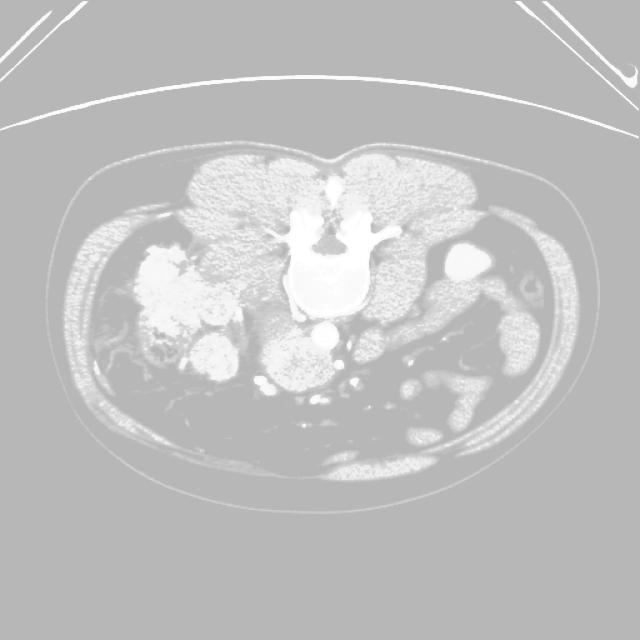TUMOR: (98, 237, 550, 435)
